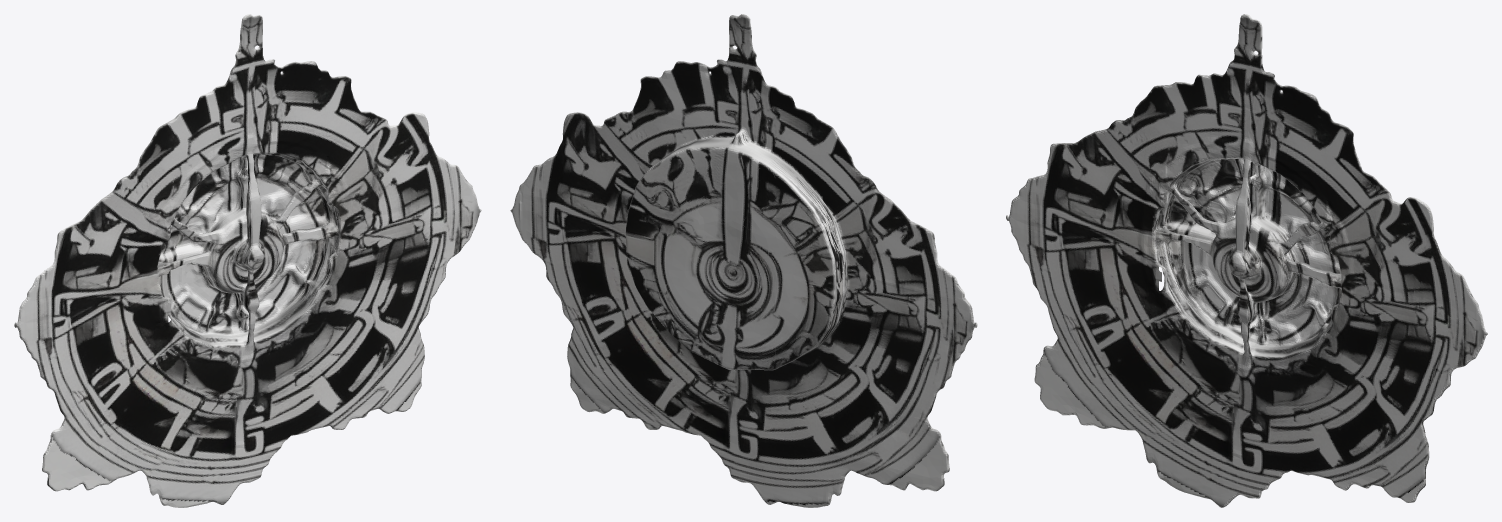
Rendered from altar_rustwright.glb.
The picture shows the model from 3 angles, left to right: view 1: azimuth 30°, elevation 25°; view 2: azimuth 150°, elevation 25°; view 3: azimuth 330°, elevation 25°; orthographic projection. The views are drawn at different scales.
Visible parts, largest first — view 1: altar_rustwright; view 2: altar_rustwright; view 3: altar_rustwright.
Part boxes in pixels (box(x1,y1,x2,y2)): altar_rustwright: box(14, 14, 481, 507); altar_rustwright: box(510, 14, 977, 507); altar_rustwright: box(1006, 14, 1487, 507).
Bounding box in the file's own units: 2.22 × 2.2 × 0.1989.
1 material, 1 textured.
